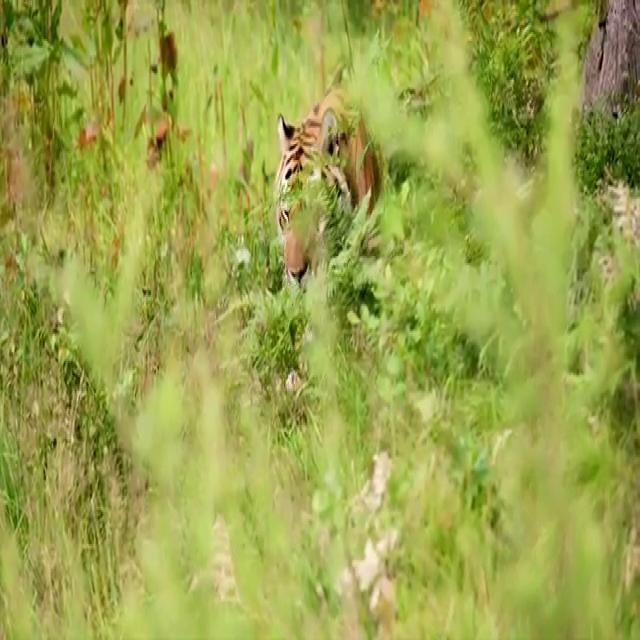tiger: (275, 90, 379, 290)
